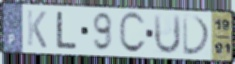9: (91, 11, 114, 53)
C: (118, 10, 148, 56)
D: (181, 13, 212, 57)
K: (26, 9, 49, 50)
L: (55, 10, 78, 51)
U: (152, 13, 182, 56)
